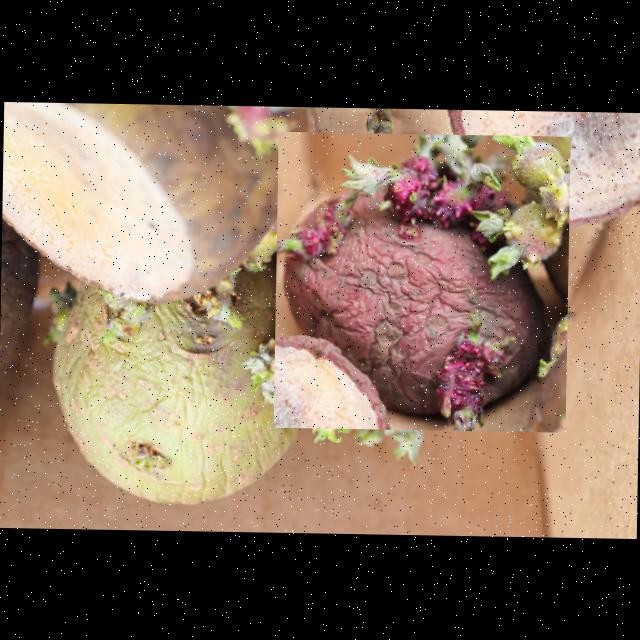Sprouted potato: (273, 132, 570, 432), (46, 264, 300, 510)
